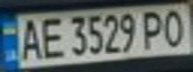2: (103, 10, 124, 55)
3: (66, 12, 87, 56)
5: (84, 11, 106, 55)
9: (118, 9, 142, 53)
A: (15, 16, 45, 62)
E: (36, 14, 66, 61)
O: (157, 6, 190, 48)
P: (139, 7, 169, 50)
